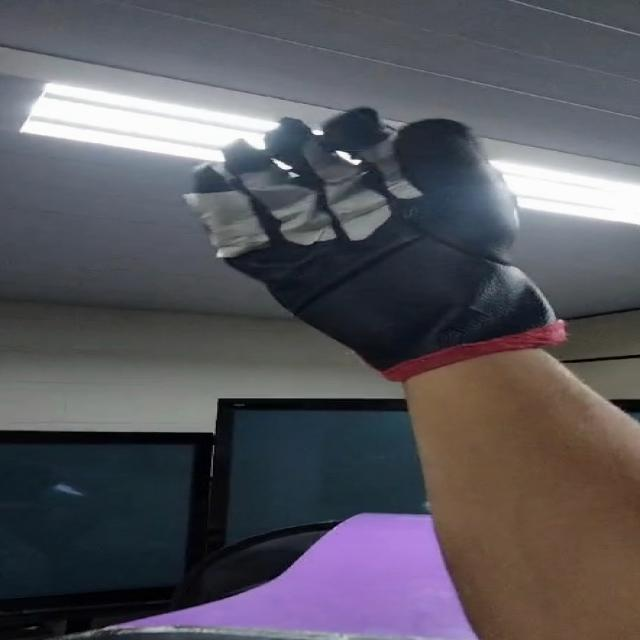Gloves: (191, 109, 574, 381)
